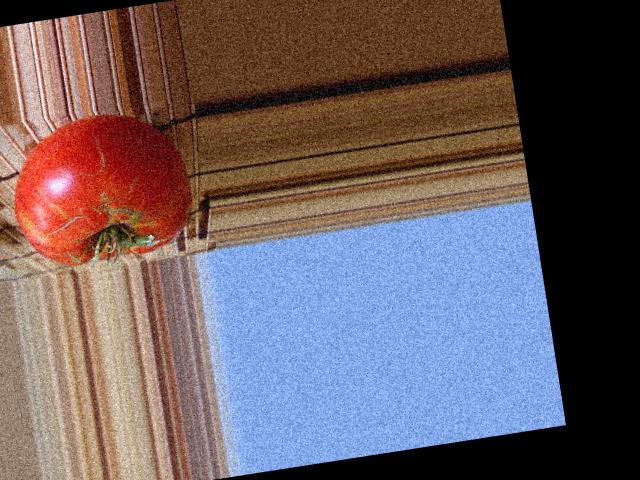tomato: (3, 104, 200, 272)
